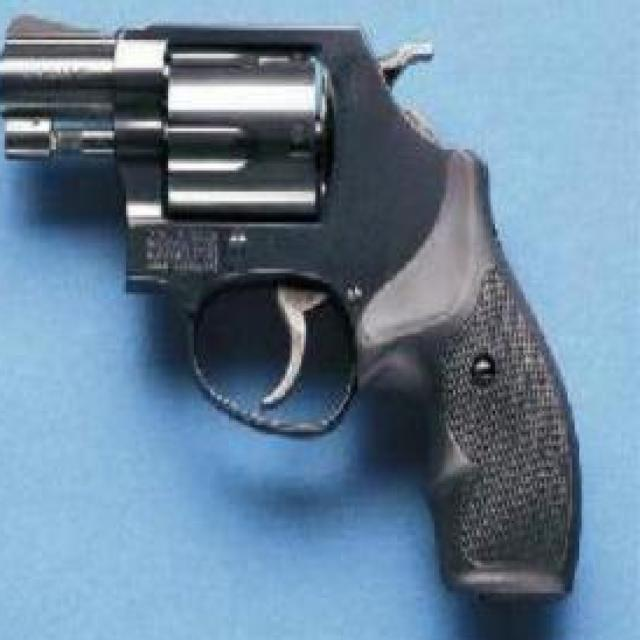pistol: (0, 2, 580, 607)
